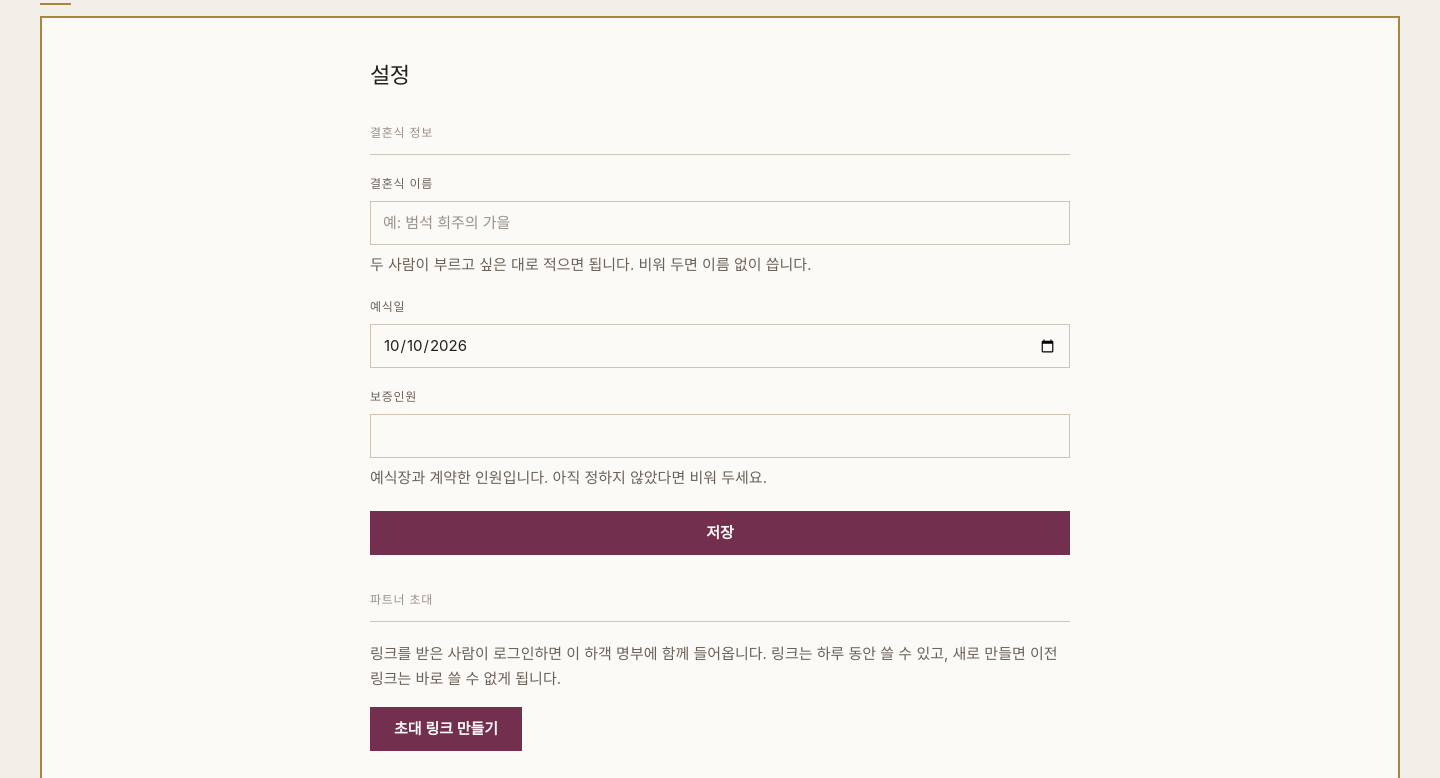
Test: says what a link costs: one day, and one at a time
Expected: the text "새로 만들면 이전 링크는 바로 쓸 수 없게 됩니다" is shown, [370,644,1058,688]
Click the button "초대 링크 만들기" at (446, 729), box [370,707,522,751]
(page scrolled)
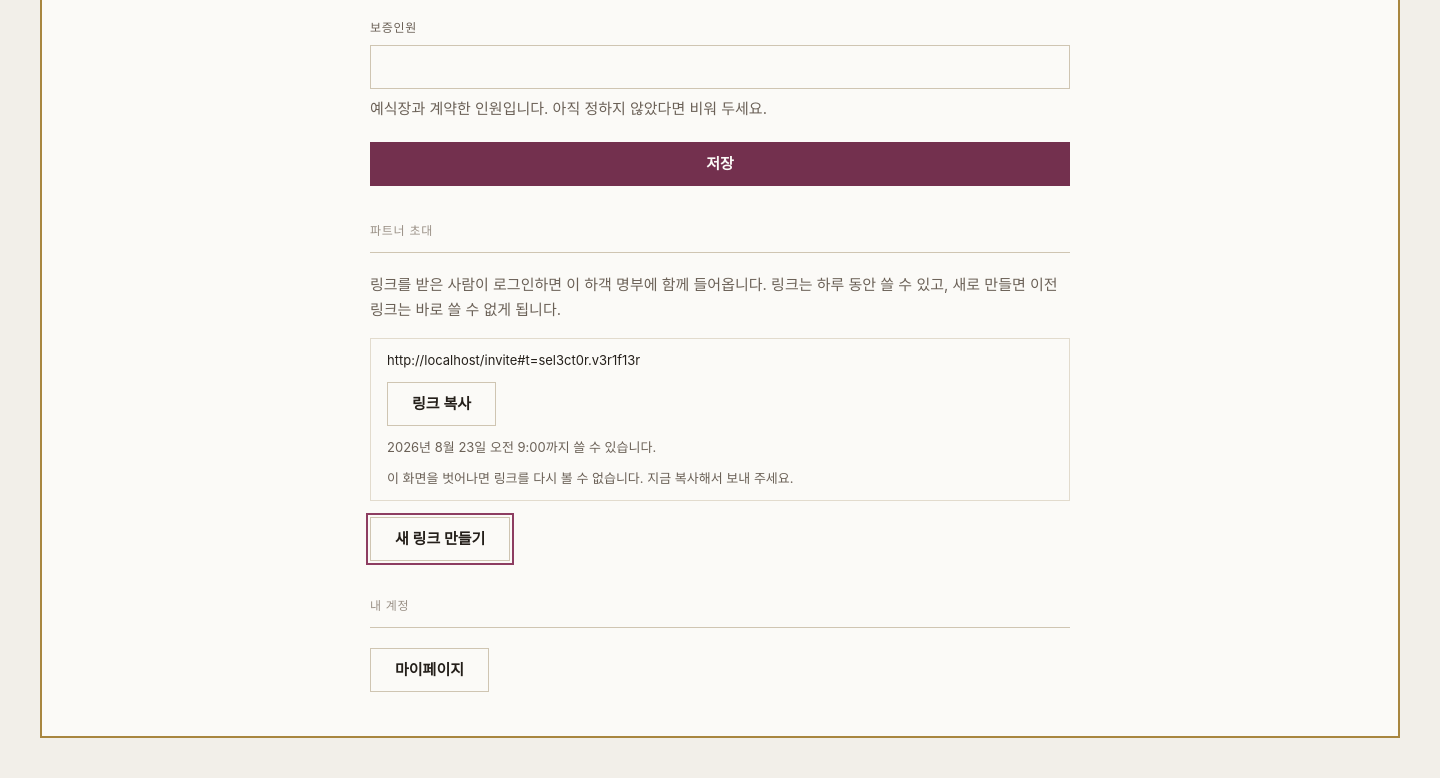
Now the text "이 화면을 벗어나면 링크를 다시 볼 수 없습니다. 지금 복사해서 보내 주세요." is shown, box [387,470,794,486]
